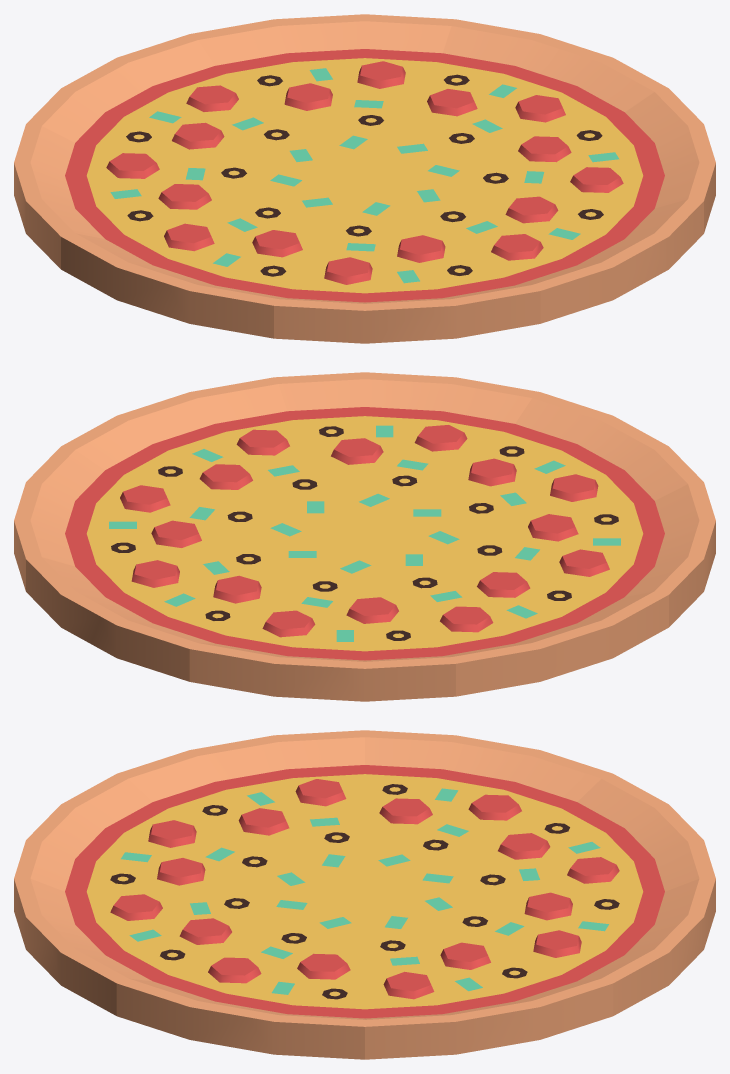
File: pizza.obj
3 renders of one model, top to bottom at view 1: azimuth 30°, elevation 25°; view 2: azimuth 150°, elevation 25°; view 3: azimuth 270°, elevation 25°, orthographic.
Visible parts, largest first — view 1: slice7, slice8, slice6, slice3, slice4, slice2, slice1, slice5; view 2: slice2, slice1, slice3, slice6, slice5, slice7, slice8, slice4; view 3: slice4, slice5, slice1, slice8, slice3, slice6, slice2, slice7.
Part boxes in pixels (x1=…): slice7: x1=274, y1=176, x2=540, y2=343; slice8: x1=61, y1=176, x2=364, y2=338; slice6: x1=365, y1=175, x2=703, y2=323; slice3: x1=190, y1=14, x2=455, y2=175; slice4: x1=365, y1=19, x2=668, y2=175; slice2: x1=26, y1=34, x2=364, y2=175; slice1: x1=14, y1=124, x2=364, y2=268; slice5: x1=366, y1=88, x2=715, y2=232; slice2: x1=189, y1=534, x2=455, y2=701; slice1: x1=365, y1=534, x2=668, y2=696; slice3: x1=26, y1=533, x2=364, y2=681; slice6: x1=274, y1=372, x2=539, y2=533; slice5: x1=61, y1=377, x2=364, y2=533; slice7: x1=365, y1=392, x2=703, y2=533; slice8: x1=365, y1=482, x2=715, y2=626; slice4: x1=14, y1=446, x2=363, y2=590; slice4: x1=365, y1=892, x2=613, y2=1059; slice5: x1=116, y1=892, x2=364, y2=1059; slice1: x1=365, y1=730, x2=612, y2=891; slice8: x1=117, y1=730, x2=364, y2=891; slice3: x1=365, y1=878, x2=715, y2=1015; slice6: x1=14, y1=878, x2=364, y2=1015; slice2: x1=366, y1=774, x2=715, y2=891; slice7: x1=14, y1=774, x2=363, y2=891.
Bounding box in the file's own units: 0.8418 × 0.0435 × 0.8418.
